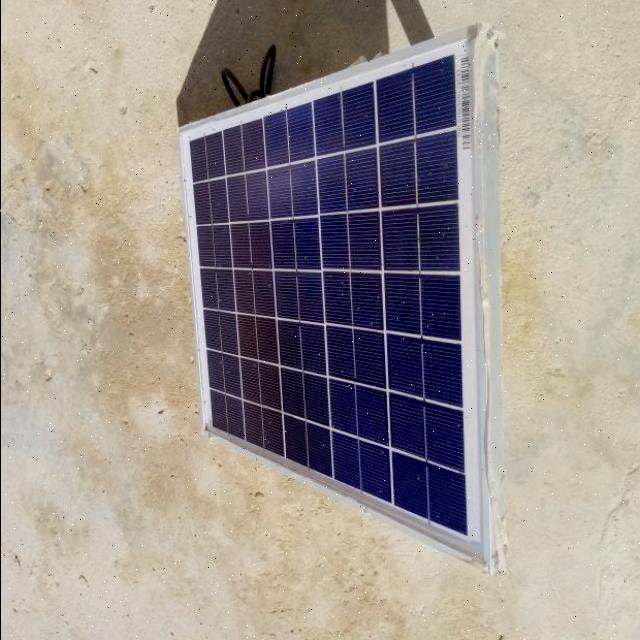Normal Solar Panel: (178, 34, 491, 568)
